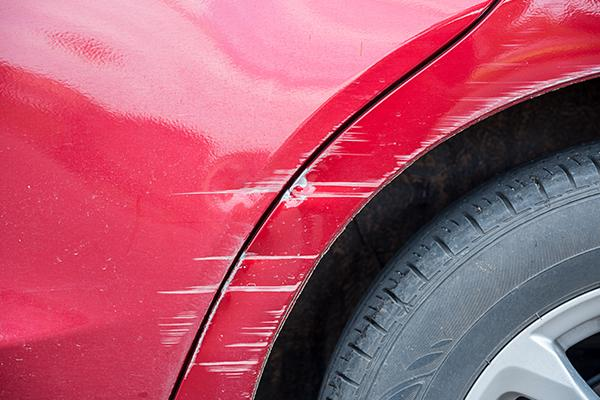scratch: (147, 51, 599, 387)
